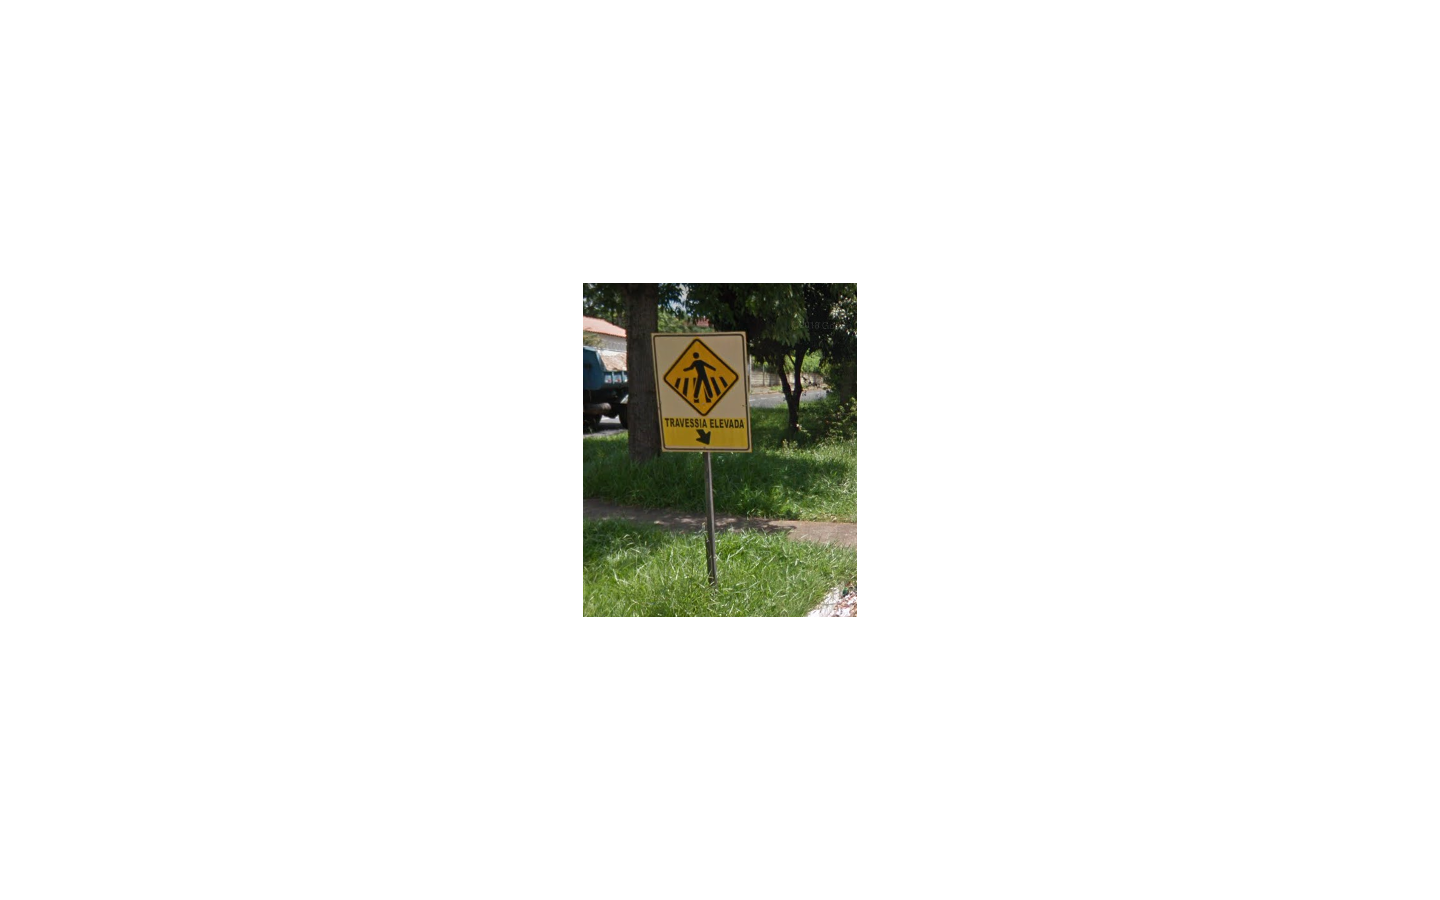telev: (650, 332, 751, 452)
